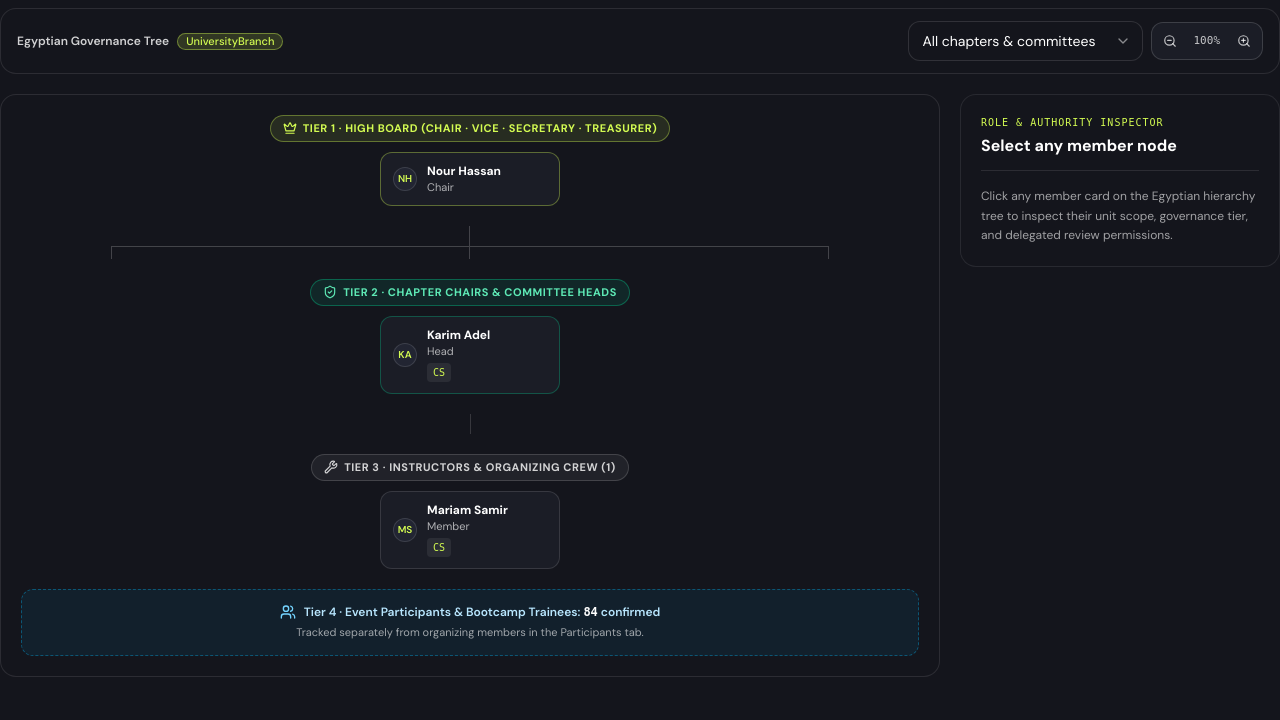
Scenario: 20-Item Plan & Role Dashboards Suite › renders all 4 Egyptian student activity tiers and inspector details in OrganizationHierarchyTab
Check: the text "Tier 1 · High Board (Chair · Vice · Secretary · Treasurer)" is shown, box [270,115,670,142]
Check: the text "Tier 2 · Chapter Chairs & Committee Heads" is shown, box [310,279,630,306]
Click the button "KA Karim Adel Head CS" at coordinates (470, 355), box [380,316,560,394]
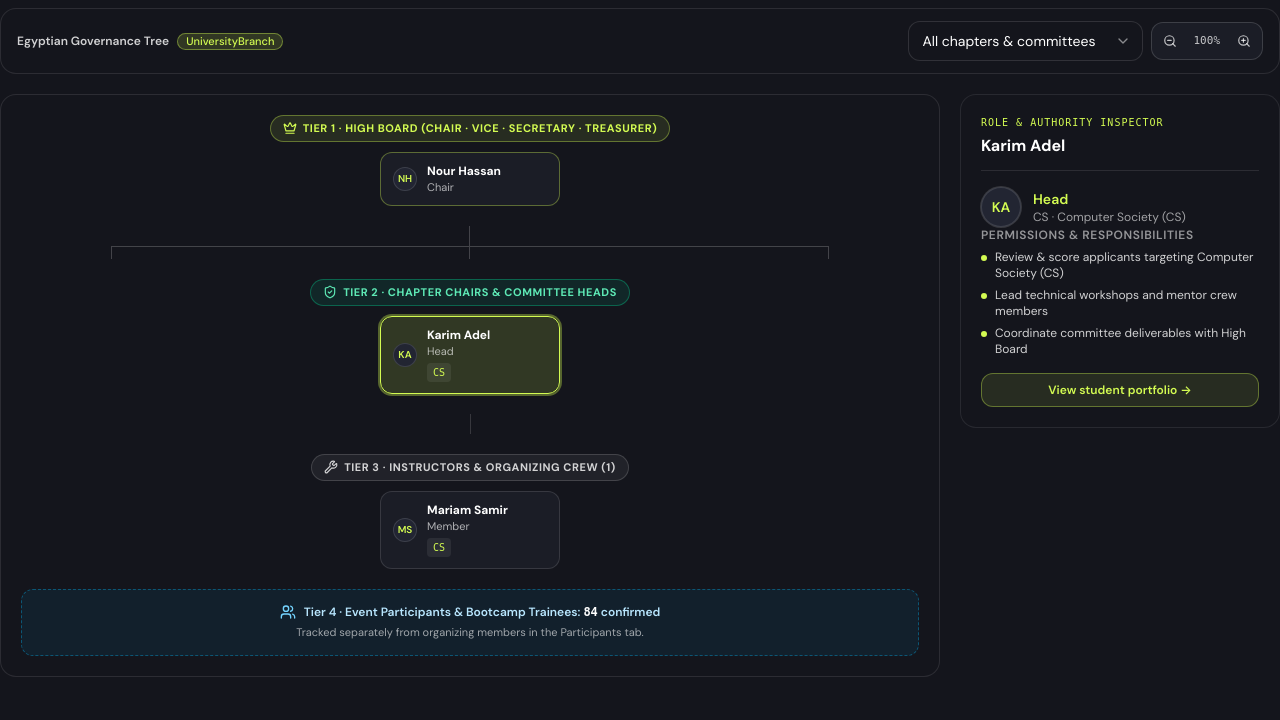
Check: the text "Review & score applicants targeting Computer Society (CS)" is shown, box [995,249,1259,281]
